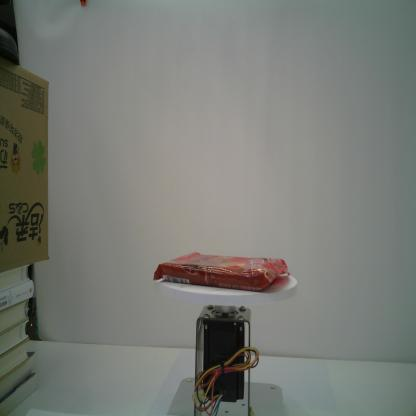Dessert: (152, 252, 290, 292)
